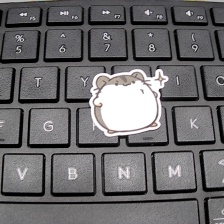mouse: (90, 68, 171, 138)
